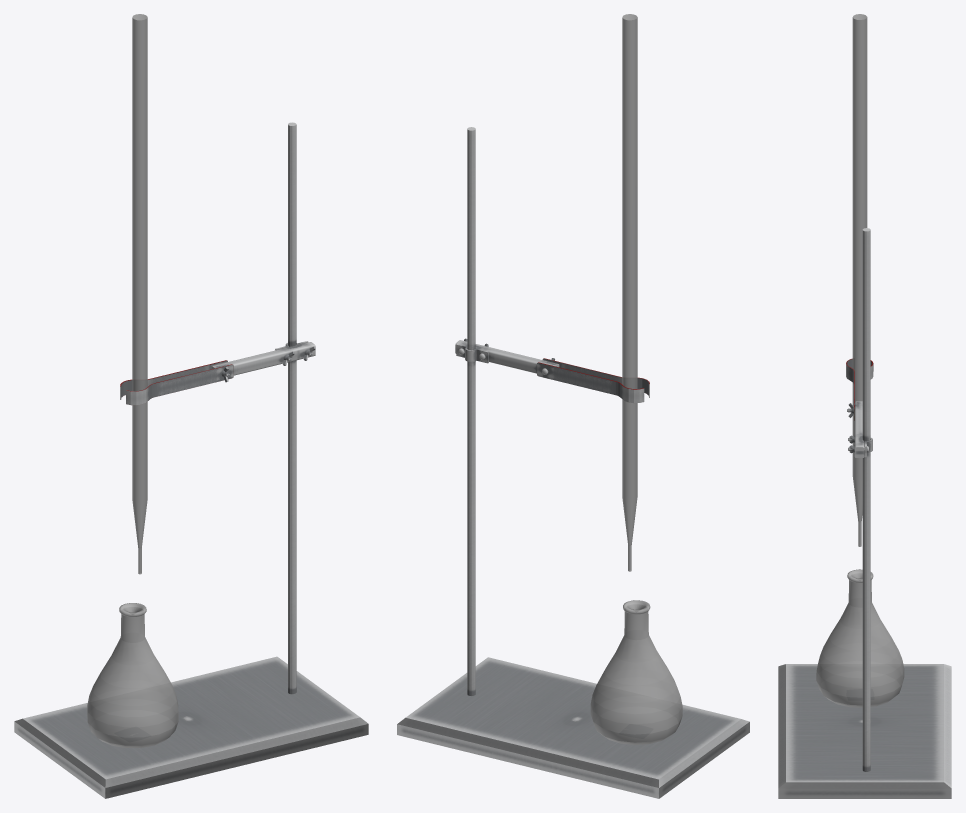
File: Beaurate.fbx
3 views of the same model, side by side, from view 1: azimuth 30°, elevation 25°; view 2: azimuth 150°, elevation 25°; view 3: azimuth 270°, elevation 25° (orthographic). The views are drawn at different scales.
Parts seen in each view (by area): view 1: MetalChemStand2, Beaurate; view 2: MetalChemStand2, Beaurate; view 3: MetalChemStand2, Beaurate.
Boxes of the visible parts, box(x1,y1,x2,y2) form: MetalChemStand2: box(14, 122, 368, 798); Beaurate: box(87, 14, 178, 747); MetalChemStand2: box(397, 127, 749, 798); Beaurate: box(590, 14, 682, 744); MetalChemStand2: box(778, 228, 951, 798); Beaurate: box(816, 14, 904, 707).
Bounding box in the file's own units: 30.22 × 80.21 × 18.13.
